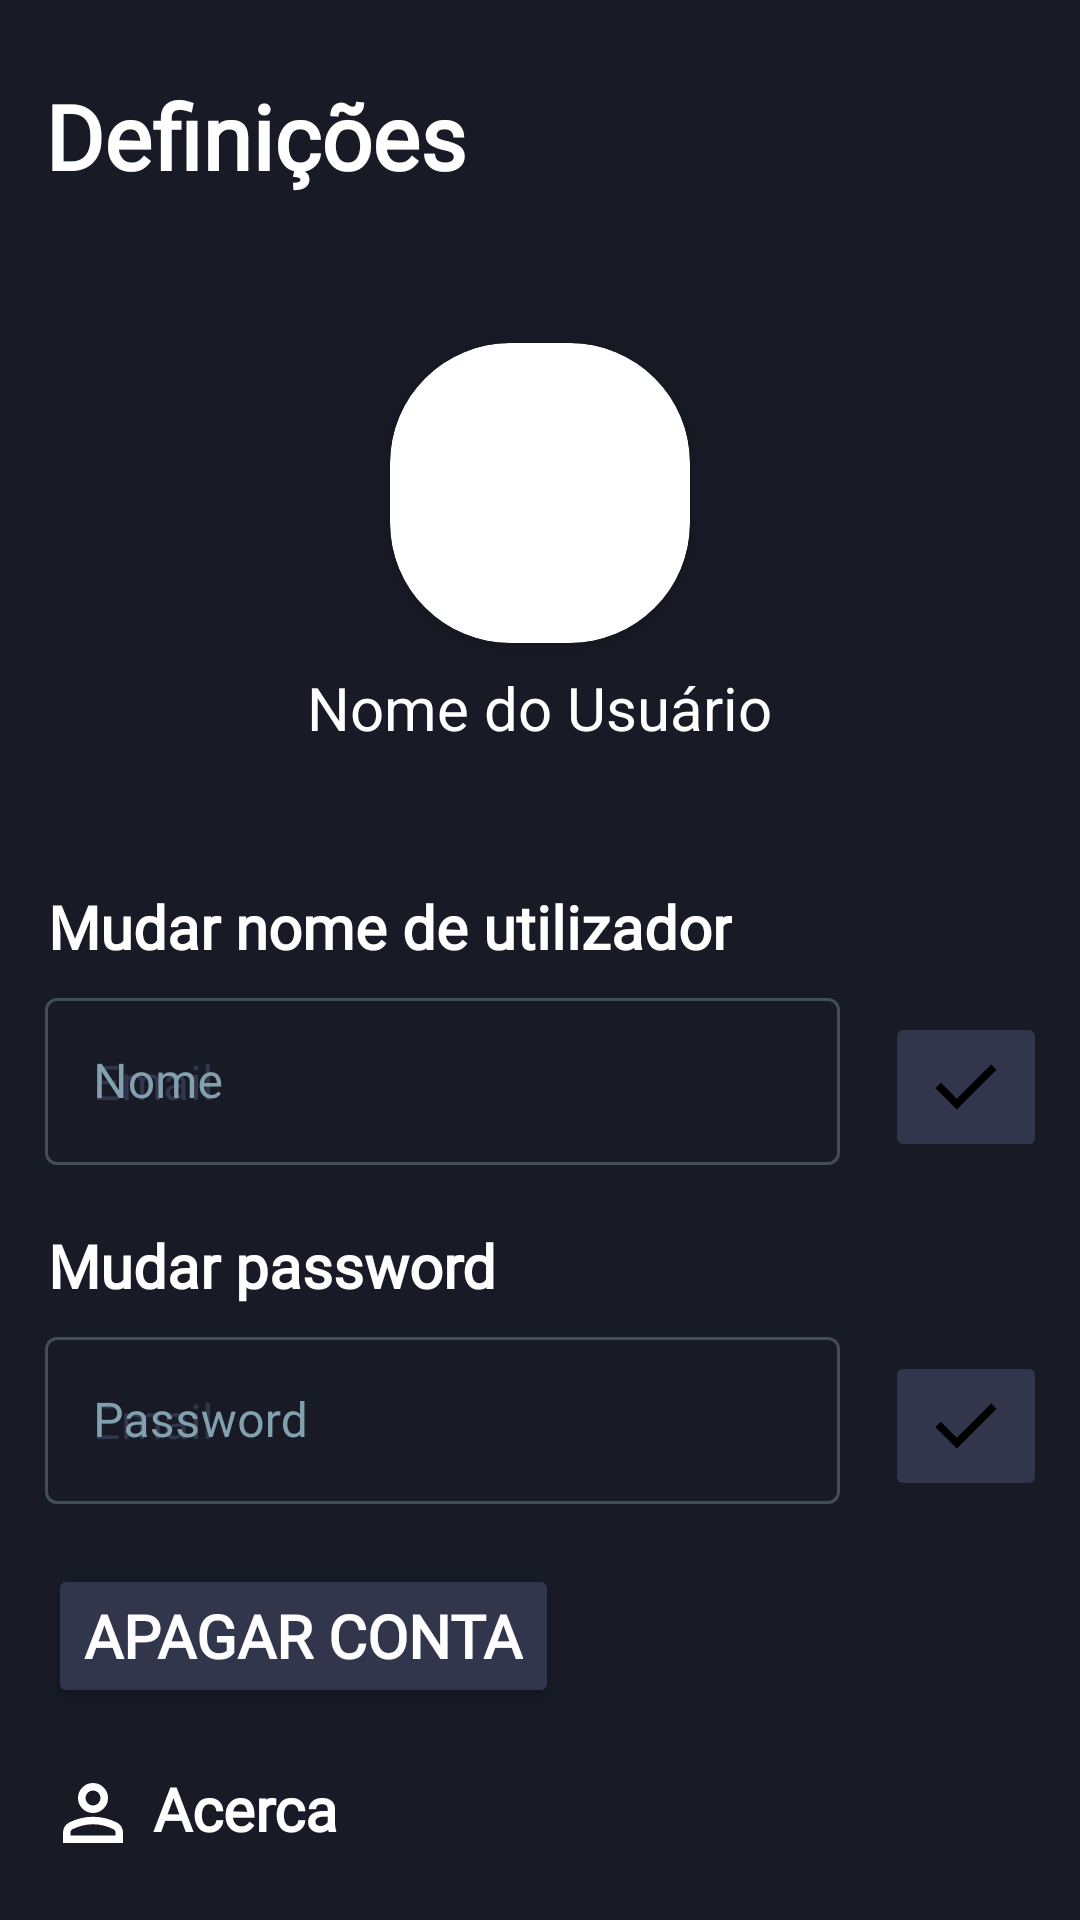

Where to tap for icons on this 1080px x 1920px app screen, as (x,y):
checar: (966,1087), (966,1426)
pessoa: (93,1813)
